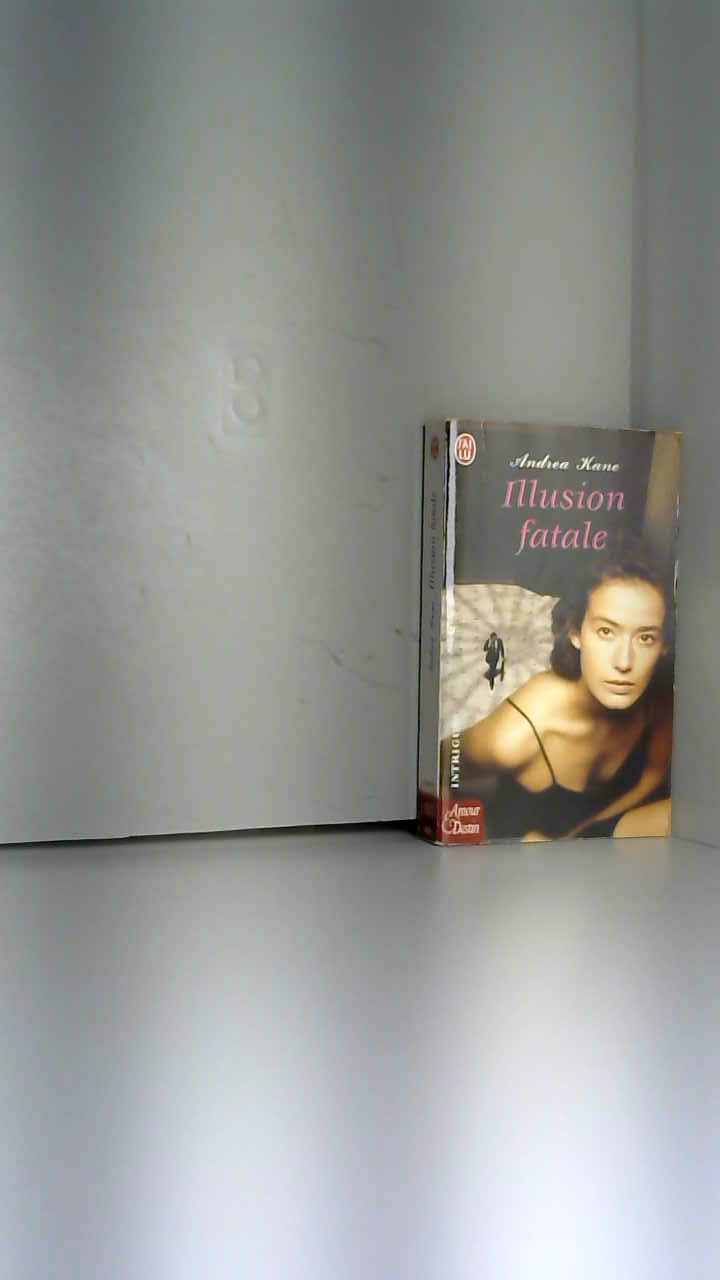book: (390, 390, 720, 877)
